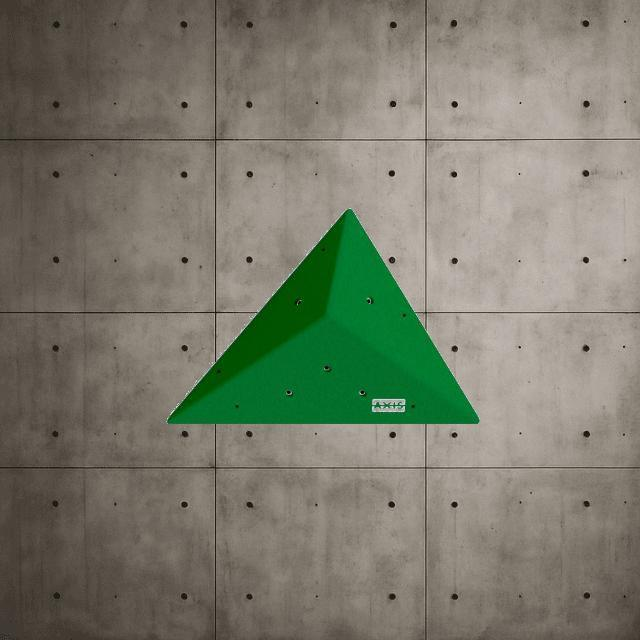Volume: (165, 208, 480, 426)
